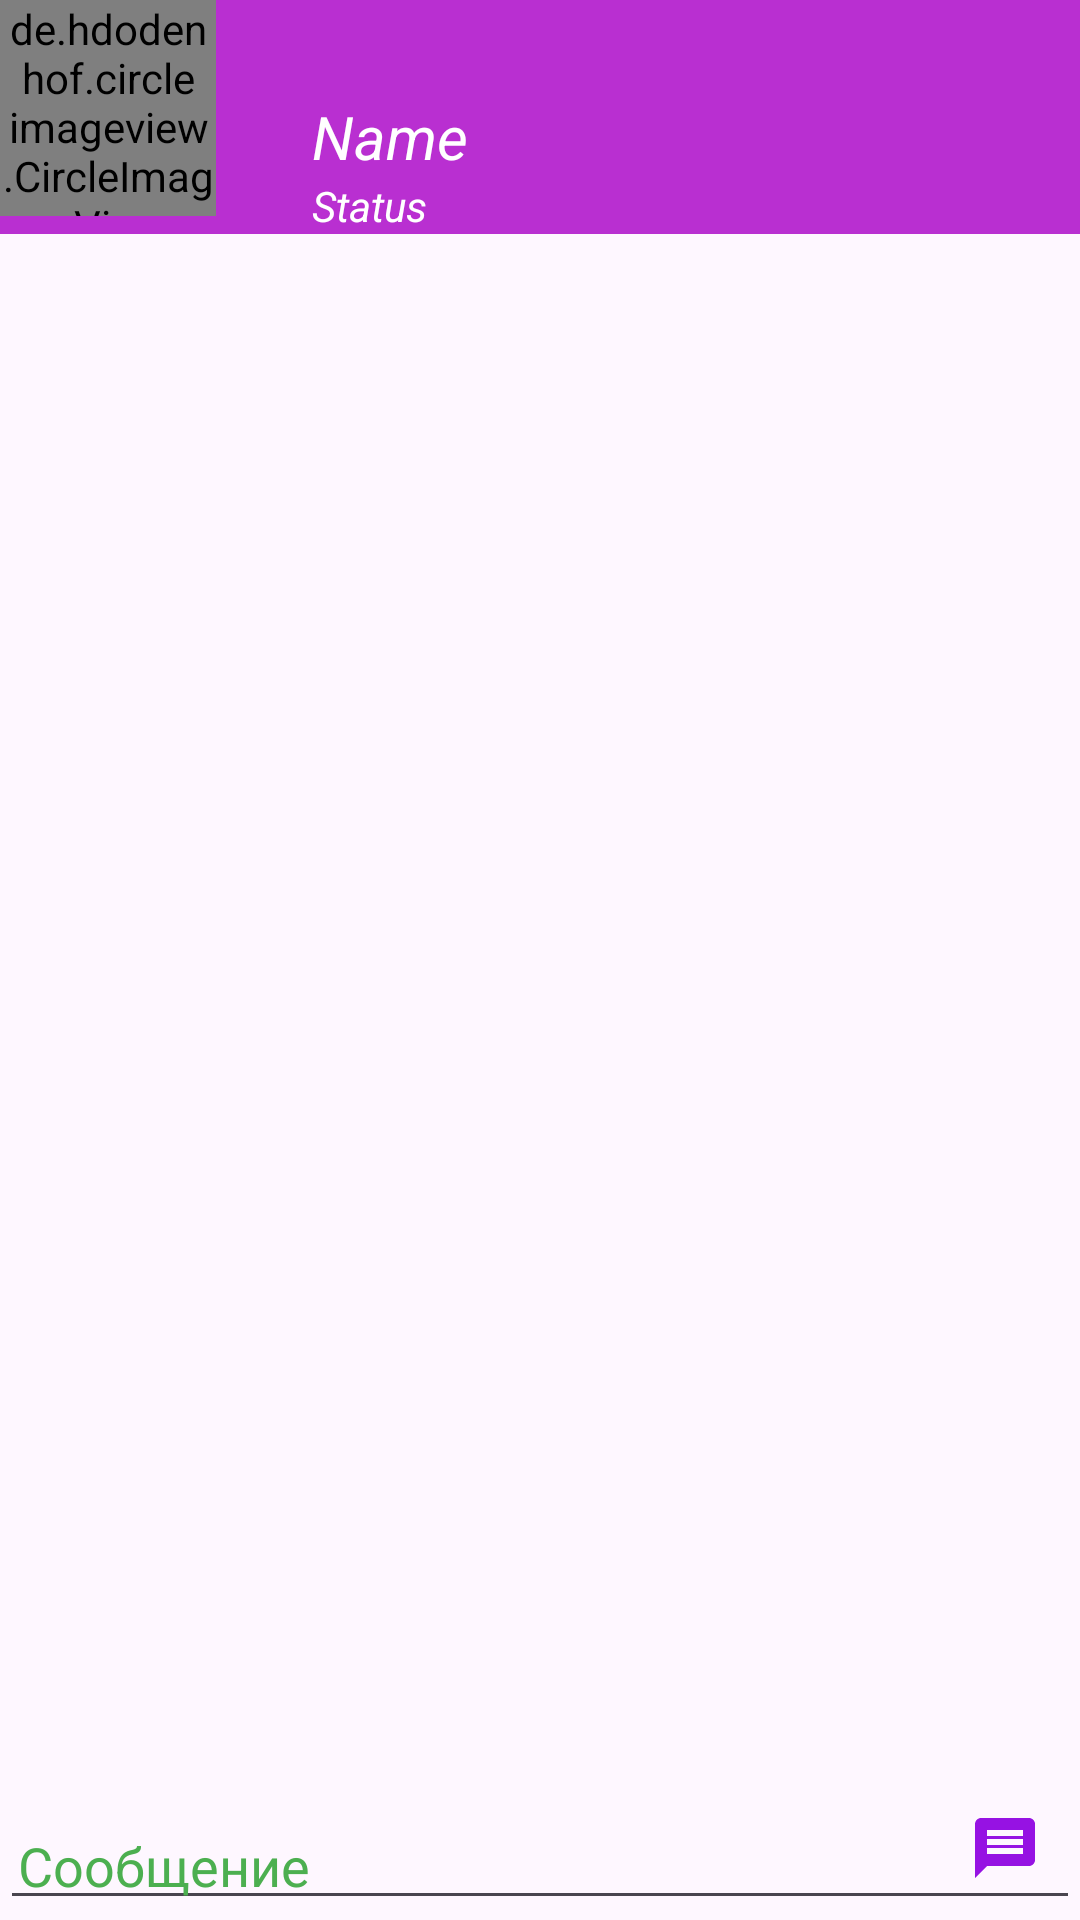

Icons on this 1080x1920 Android screen, each with its box as [left=x1, top=y1, right=x2, bottom=y2]:
message: [left=975, top=1818, right=1035, bottom=1878]
